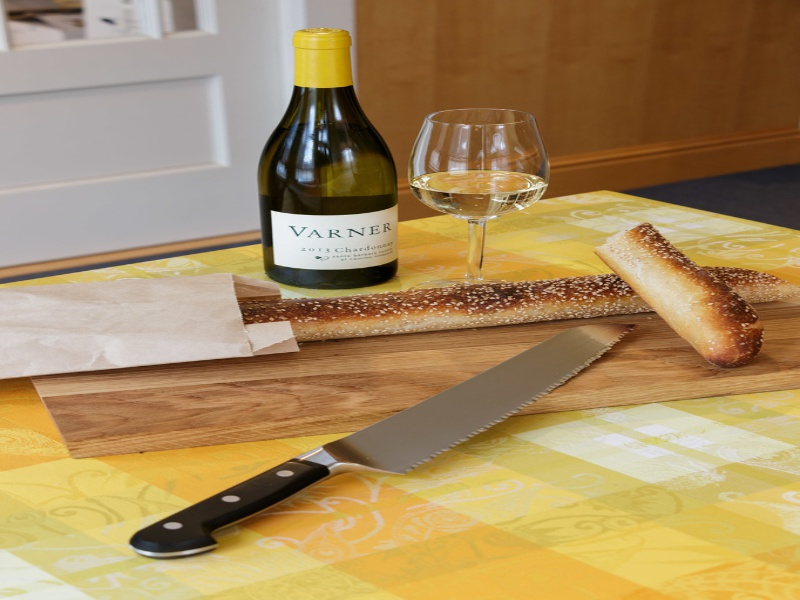knife: (126, 316, 639, 559)
